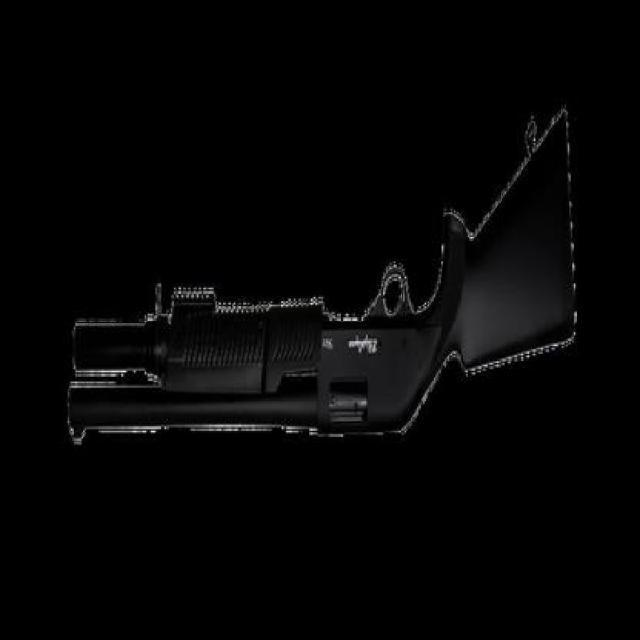weapon: (63, 102, 579, 448)
